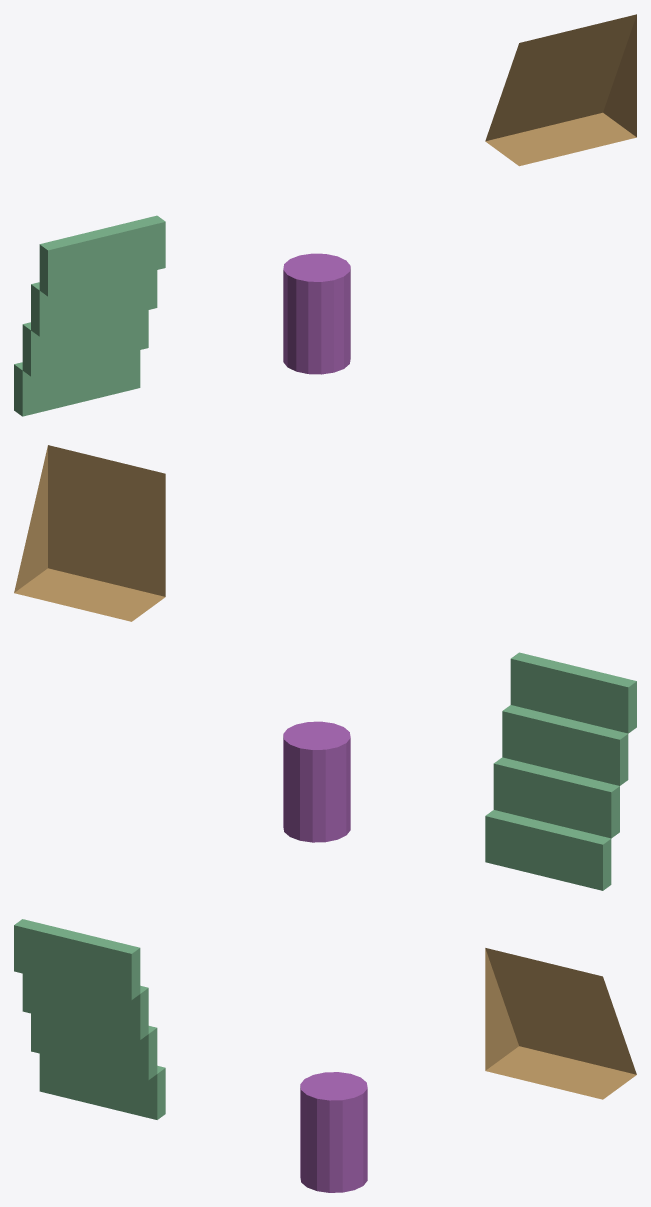
3 views of the same model, one above another, from view 1: azimuth 30°, elevation 25°; view 2: azimuth 150°, elevation 25°; view 3: azimuth 330°, elevation 25° (orthographic).
Parts seen in each view (by area): view 1: Ramp; view 2: Ramp; view 3: Ramp.
Part boxes in pixels (<box>): Ramp: <box>14,14,636,416</box>; Ramp: <box>14,445,636,890</box>; Ramp: <box>14,919,636,1192</box>.
Bounding box in the file's own units: 20 × 9.5 × 2.5.
